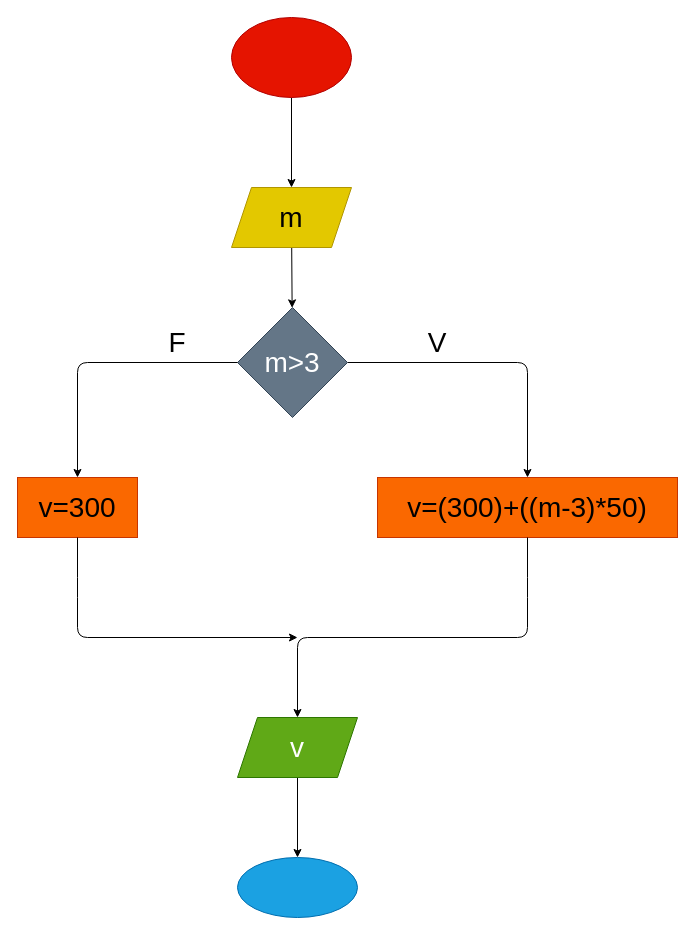
This 695x935 diagram has some shape labels left out. The box of each missing label's shape, as (x1, y1, x2, y2) in pixels:
fin: (236, 856, 358, 918)
inicio: (230, 16, 352, 98)
